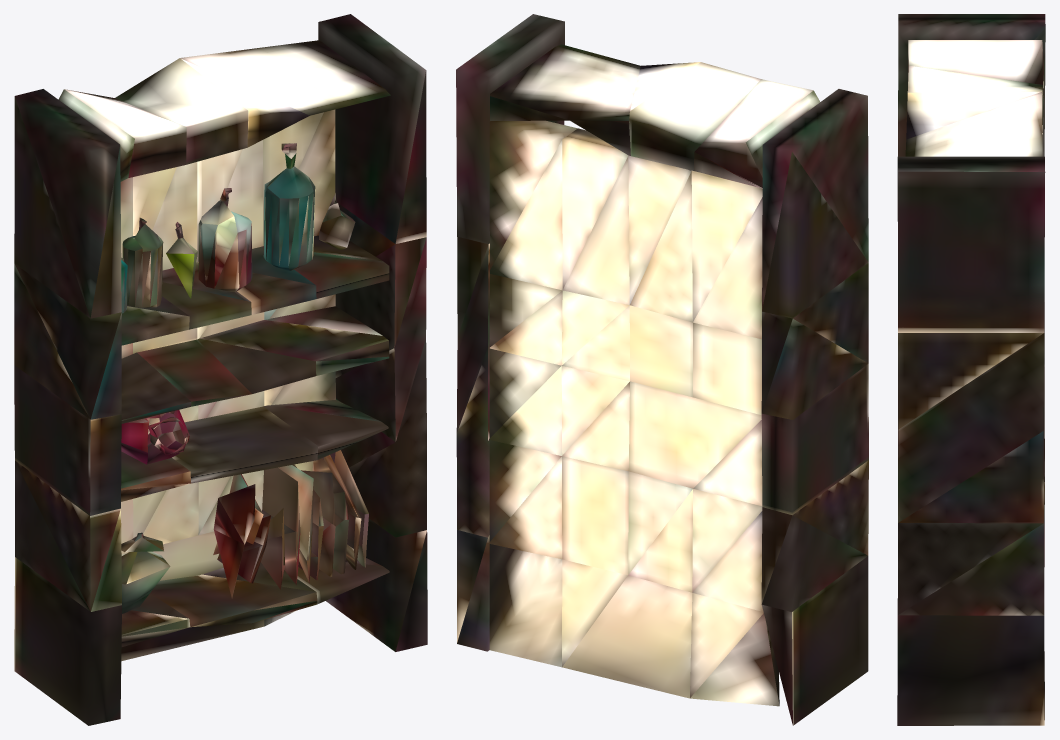
File: potion-shelf.lod2.glb
3 views of the same model, side by side, from view 1: azimuth 30°, elevation 25°; view 2: azimuth 150°, elevation 25°; view 3: azimuth 270°, elevation 25° (orthographic). The views are drawn at different scales.
Bounding box in the file's own units: 1.11 × 1.8 × 0.4367.
1 material, 1 textured.
